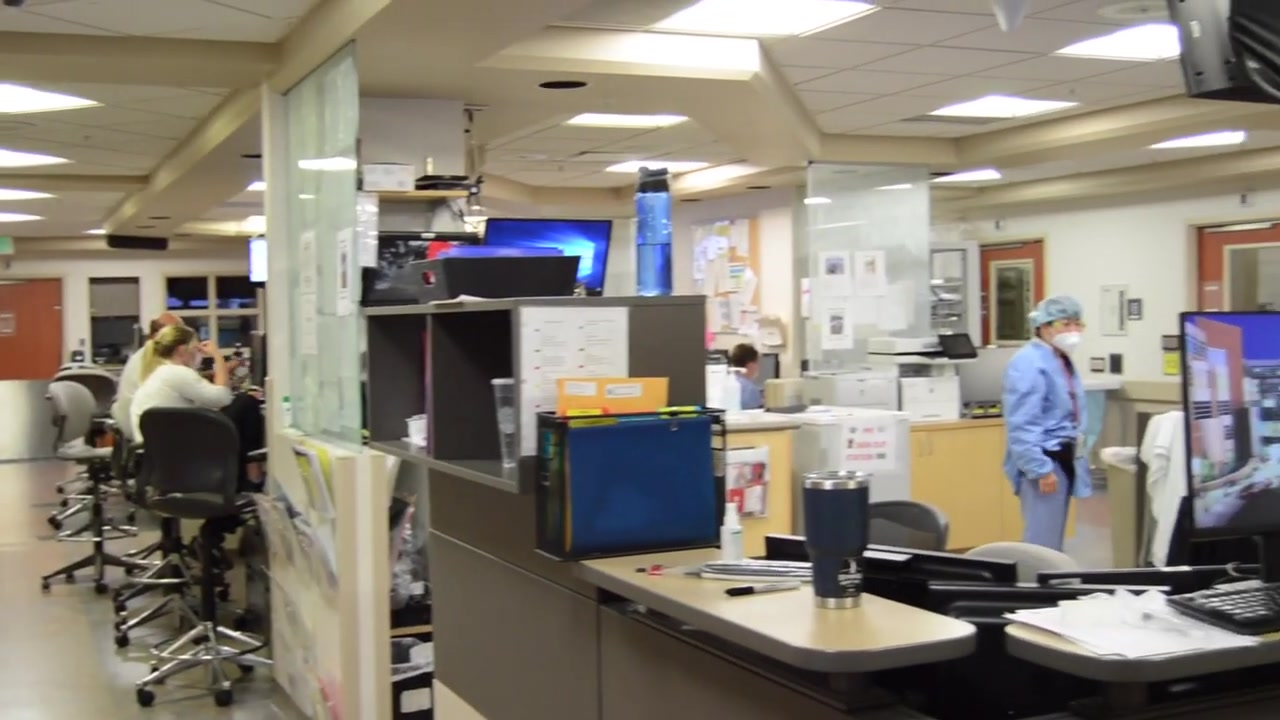TV: (482, 213, 613, 296)
chair: (136, 404, 276, 706), (38, 378, 144, 591), (45, 367, 138, 532)
computer: (1176, 311, 1280, 542), (763, 531, 1016, 622), (249, 332, 267, 387)
counter: (710, 401, 1081, 539)
countertop: (575, 541, 977, 672), (997, 568, 1280, 682)
handle: (927, 439, 934, 457), (917, 440, 924, 457)
keyboard: (1165, 581, 1280, 636)
staff: (999, 294, 1097, 554), (112, 314, 193, 494), (132, 328, 239, 463), (726, 343, 766, 409)
